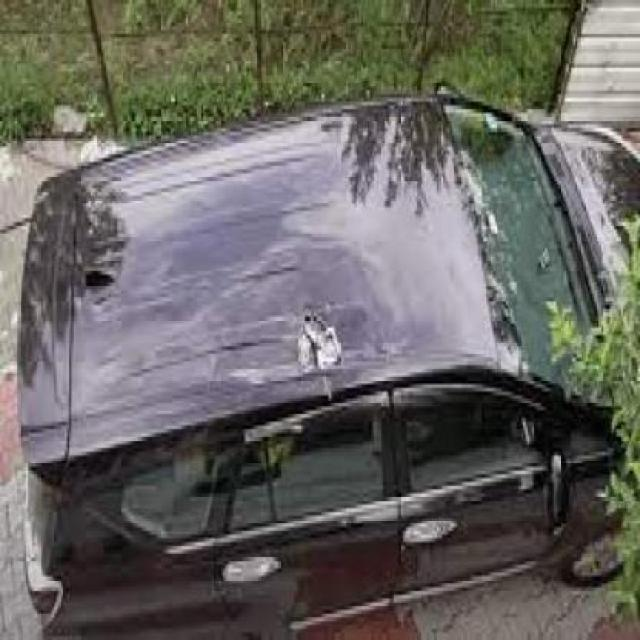roof-dent: (182, 97, 450, 493)
